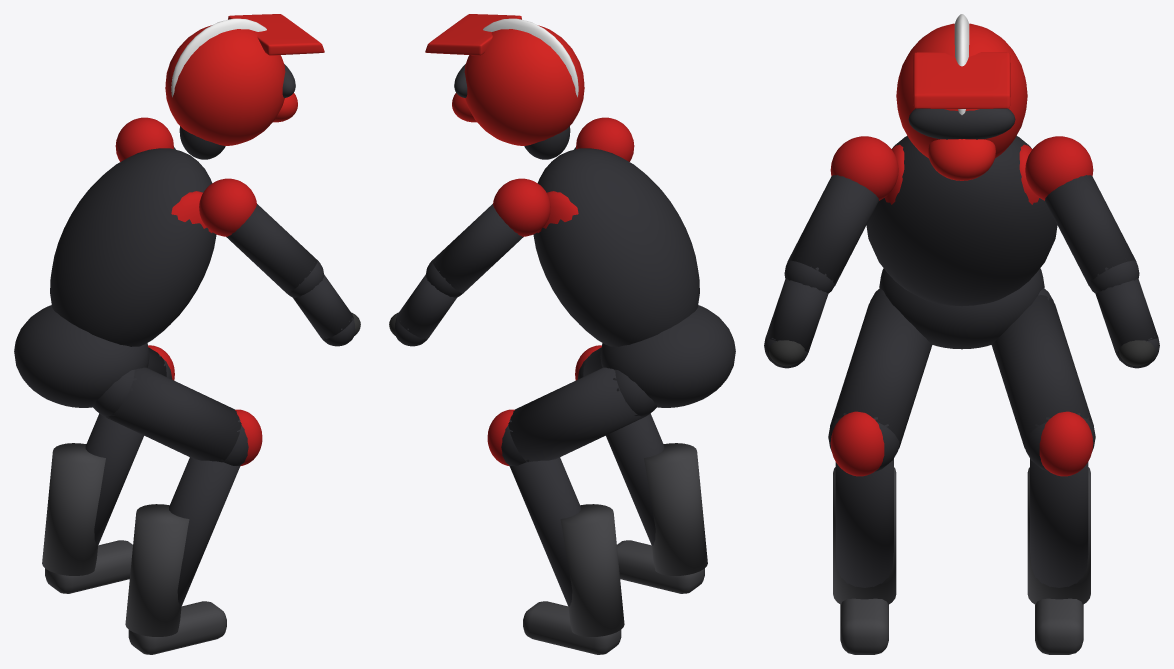
The model's file is SM450_Pilota.glb.
3 views of the same model, side by side, from view 1: azimuth 30°, elevation 25°; view 2: azimuth 150°, elevation 25°; view 3: azimuth 270°, elevation 25° (orthographic). The views are drawn at different scales.
Visible parts, largest first — view 1: SM450_Pilota; view 2: SM450_Pilota; view 3: SM450_Pilota.
Boxes of the visible parts, <box> form: SM450_Pilota: <box>14,14,360,654</box>; SM450_Pilota: <box>389,14,735,654</box>; SM450_Pilota: <box>764,14,1159,654</box>.
Bounding box in the file's own units: 0.7781 × 1.51 × 0.814.
